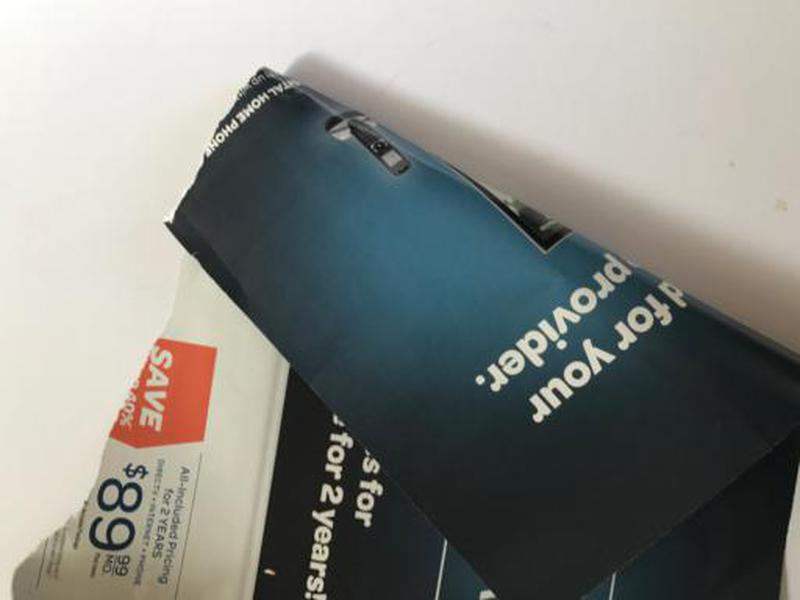paper: (10, 56, 800, 600)
